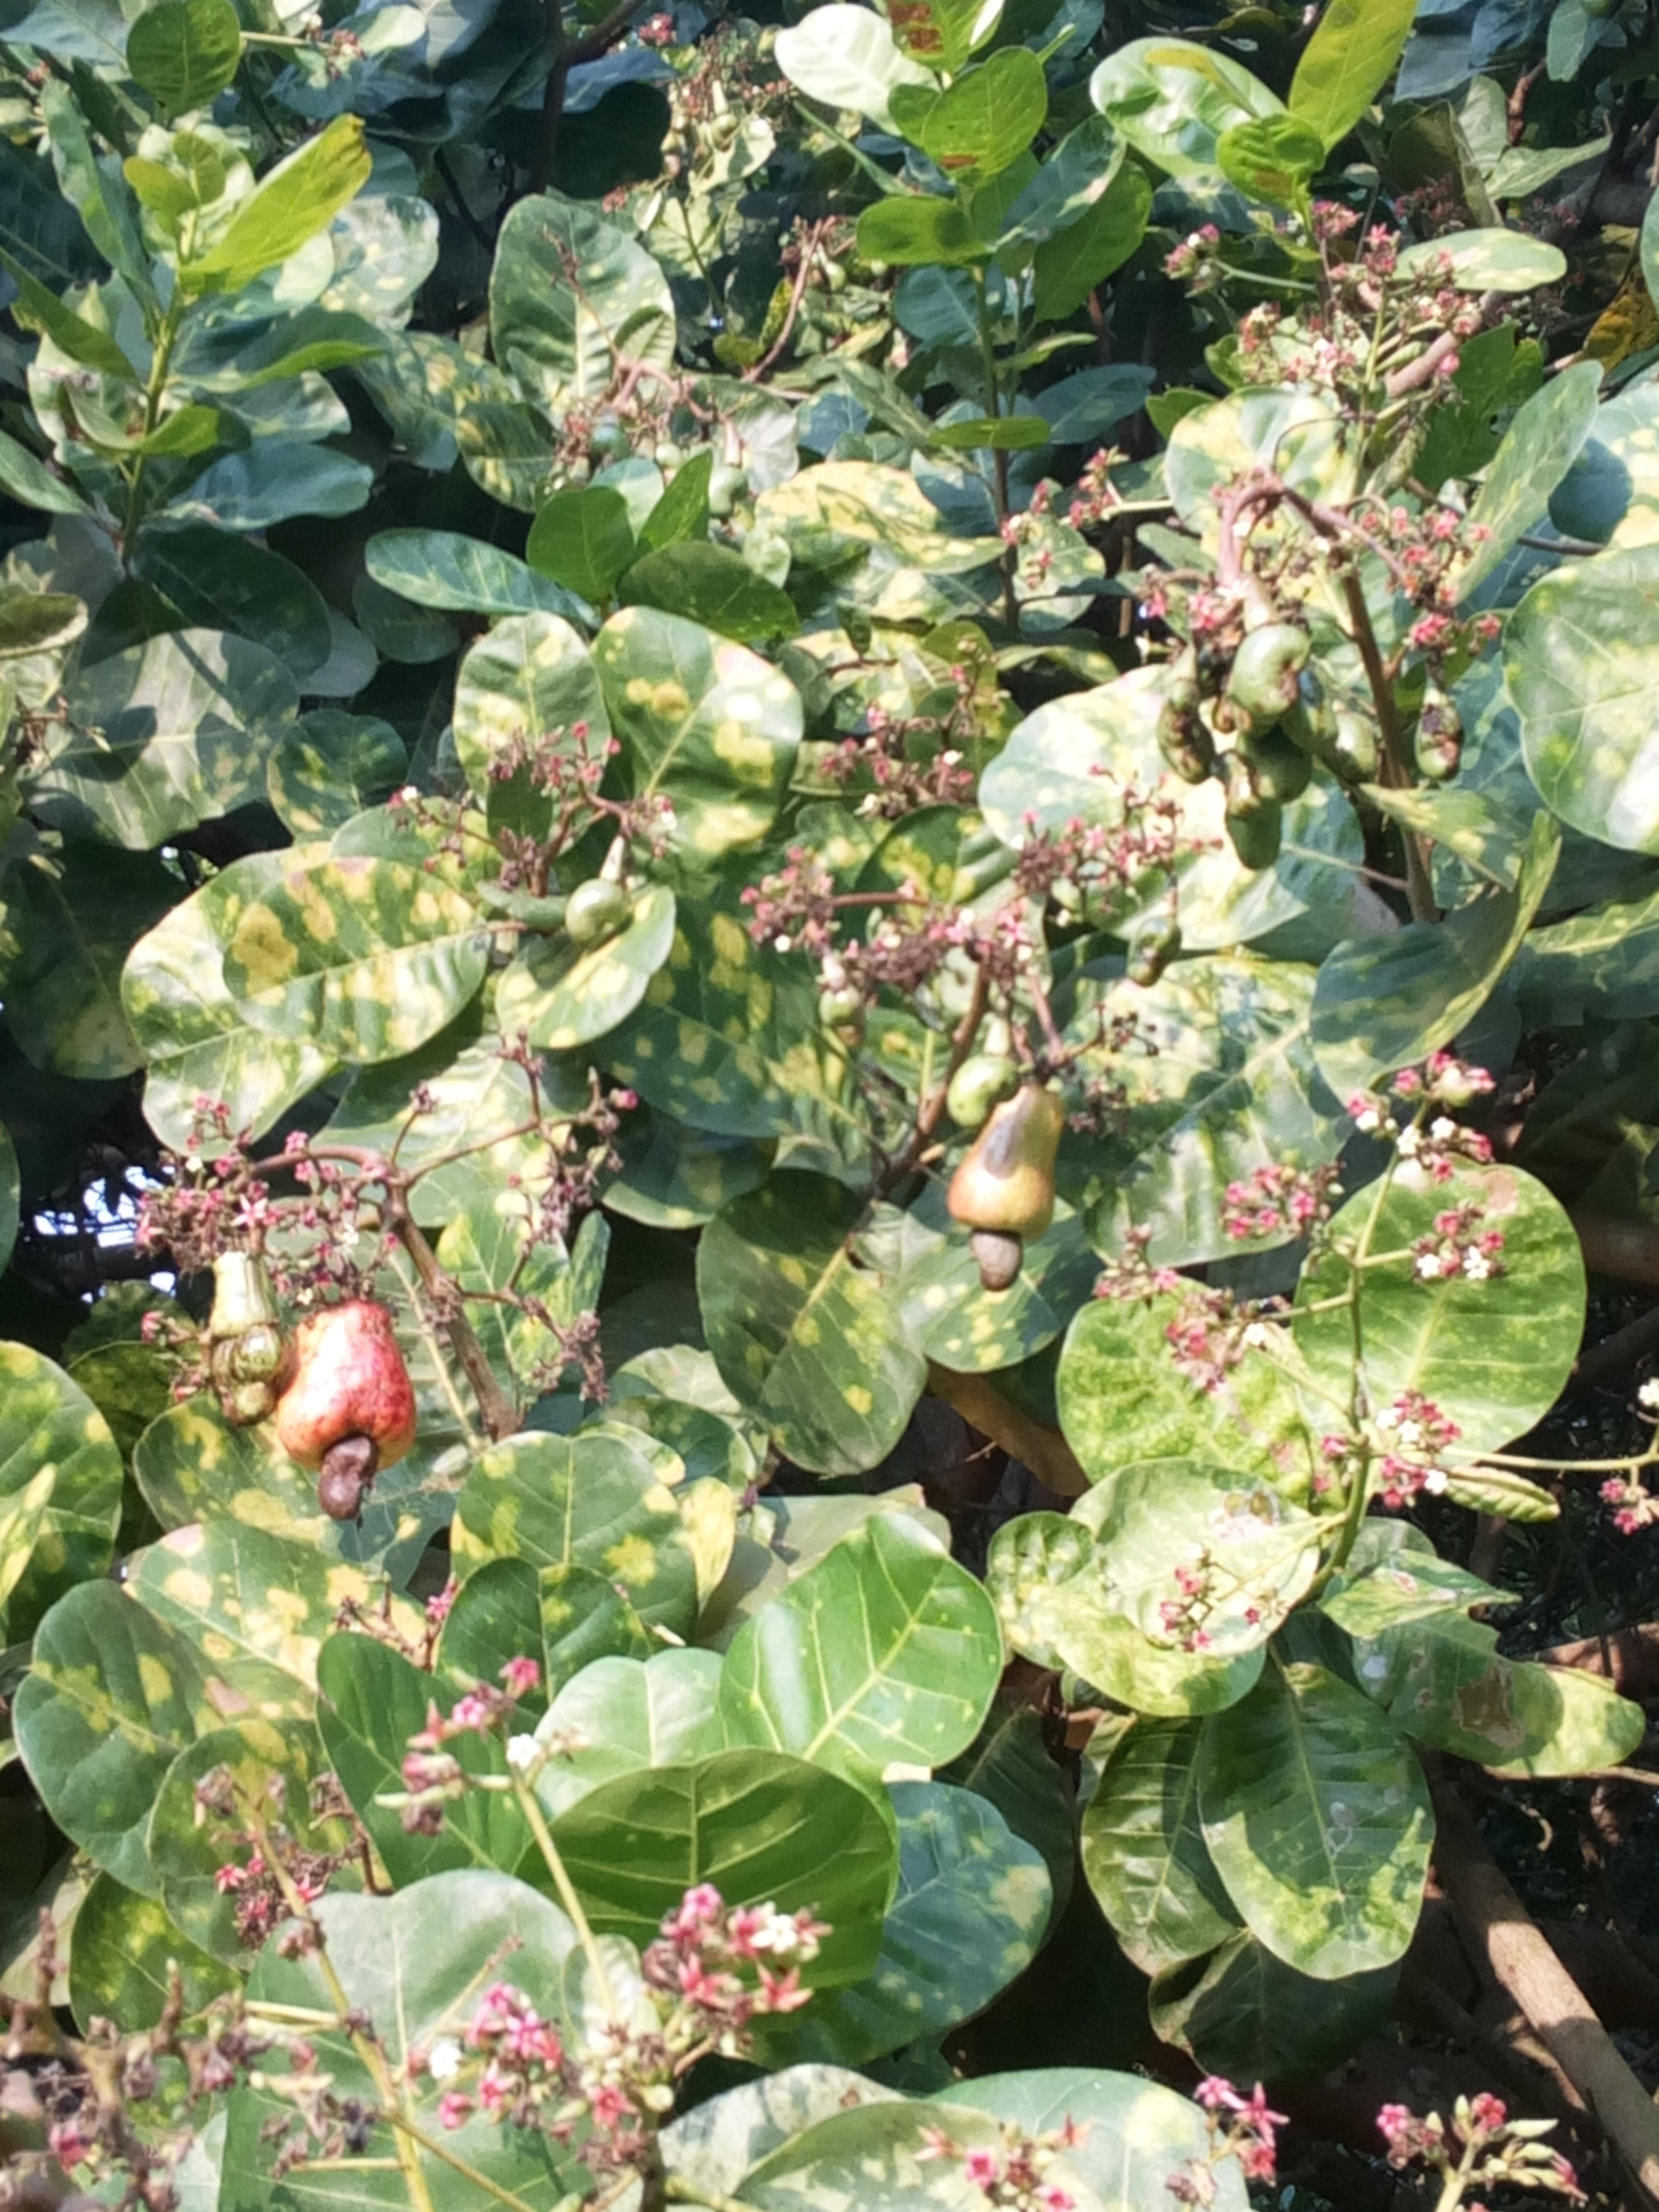Carence minérale: (125, 841, 369, 1160), (694, 1195, 945, 1486), (596, 608, 819, 909), (216, 838, 500, 1069), (450, 1425, 732, 1632), (1500, 536, 1659, 862), (439, 611, 633, 822), (0, 1332, 145, 1604)
